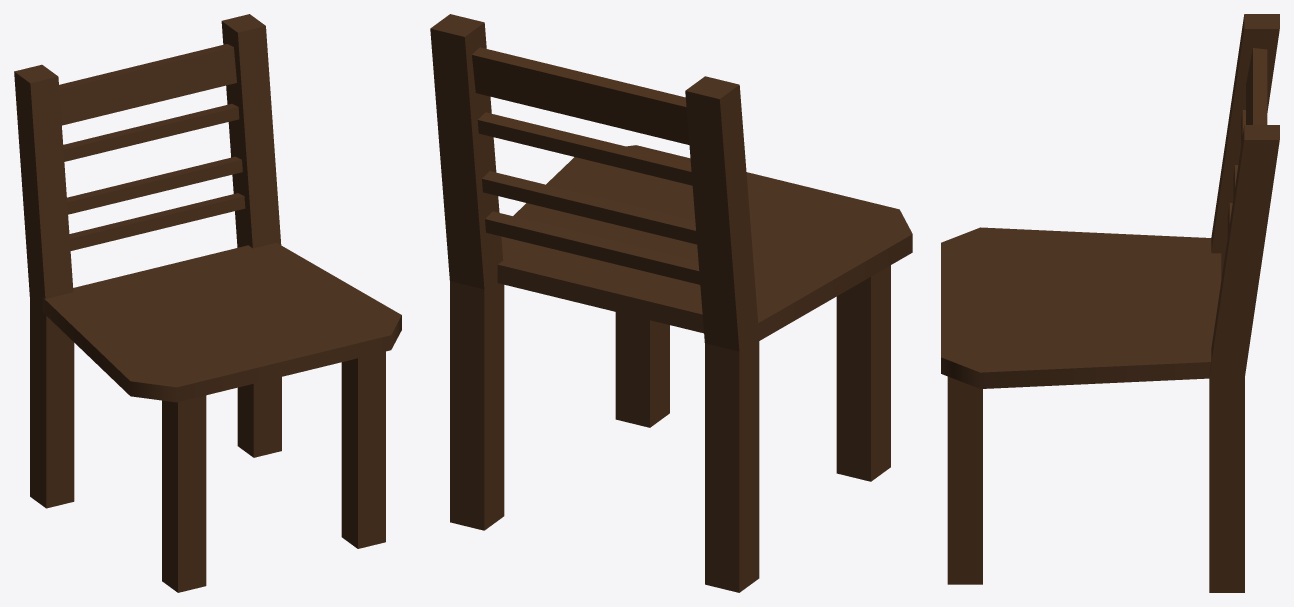
The model's file is Chair.fbx.
3 renders of one model, left to right at view 1: azimuth 30°, elevation 25°; view 2: azimuth 150°, elevation 25°; view 3: azimuth 270°, elevation 25°, orthographic. The views are drawn at different scales.
Visible parts, largest first — view 1: Chair; view 2: Chair; view 3: Chair.
Boxes of the visible parts, bbox=[...] form: Chair: bbox=[14, 14, 401, 592]; Chair: bbox=[430, 14, 912, 592]; Chair: bbox=[941, 14, 1279, 592].
Size of the model in its own units: 196 by 286 by 194.
